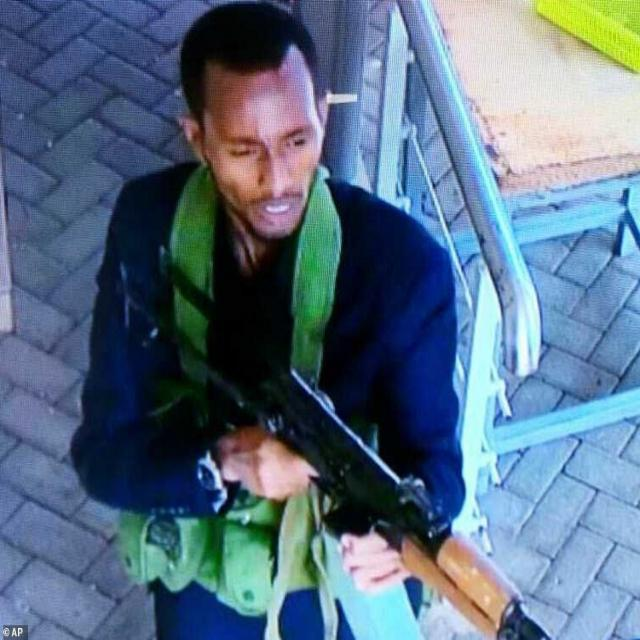gun: (153, 243, 549, 639)
